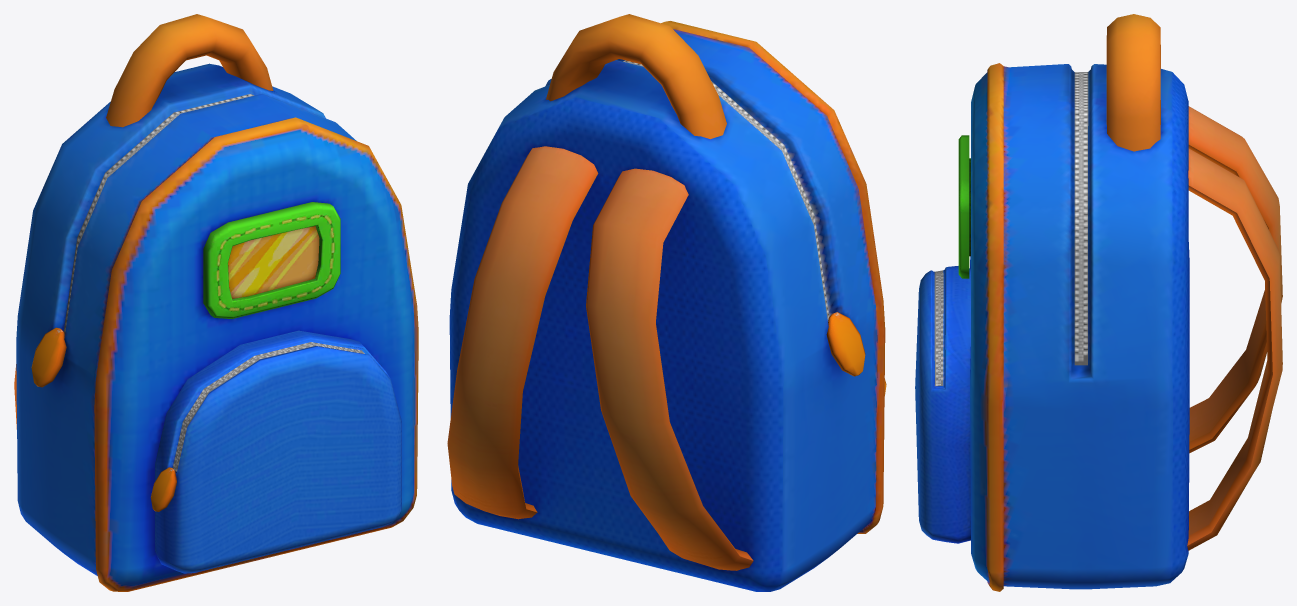
File: 0-backpack_blue.fbx
3 renders of one model, left to right at view 1: azimuth 30°, elevation 25°; view 2: azimuth 150°, elevation 25°; view 3: azimuth 270°, elevation 25°, orthographic. The views are drawn at different scales.
Parts seen in each view (by area): view 1: 0-backpack_blue; view 2: 0-backpack_blue; view 3: 0-backpack_blue.
Part boxes in pixels (<box>): 0-backpack_blue: <box>14,14,418,591</box>; 0-backpack_blue: <box>447,14,886,591</box>; 0-backpack_blue: <box>915,14,1282,591</box>.
Size of the model in its own units: 70.95 by 97.29 by 64.86.
